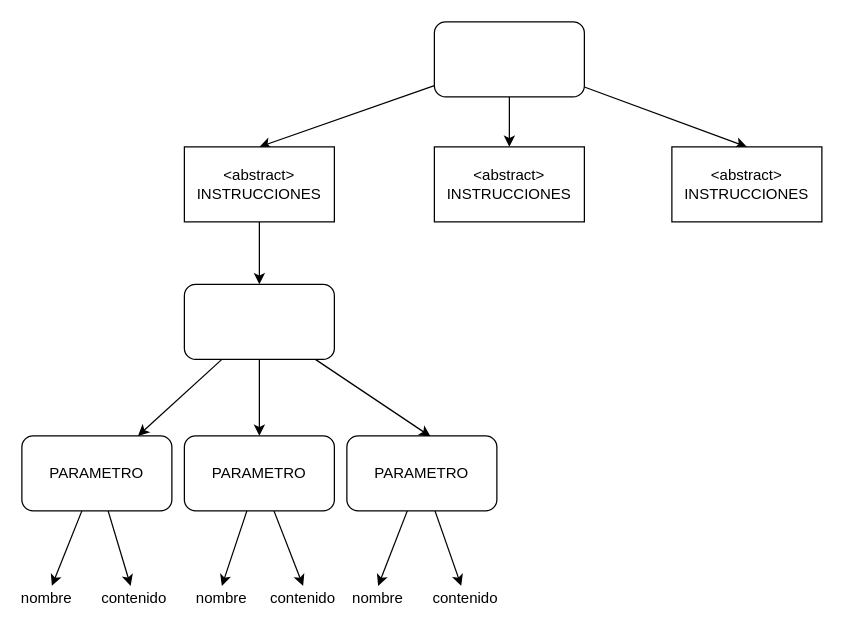
This 844x633 diagram has some shape labels left out. Each missing label, with the centre of its shape:
LISTA COMADOS: (508,59)
lista PARAMETRO: (258,321)
